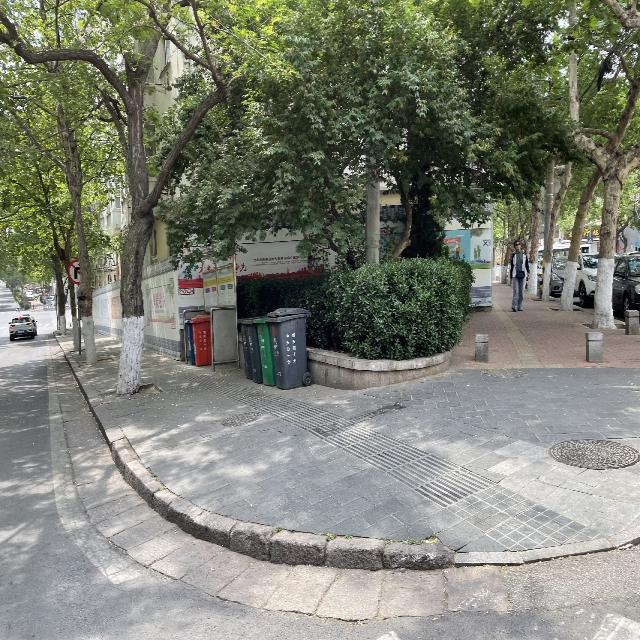garbage_bin: (265, 306, 307, 389), (252, 316, 274, 385), (241, 319, 262, 382), (189, 314, 212, 366), (237, 317, 252, 379)
